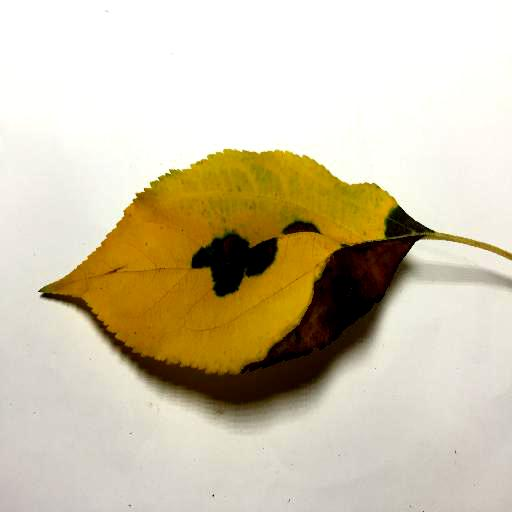Brown_Spot: (244, 242, 391, 377), (198, 237, 268, 280), (278, 219, 318, 231)
